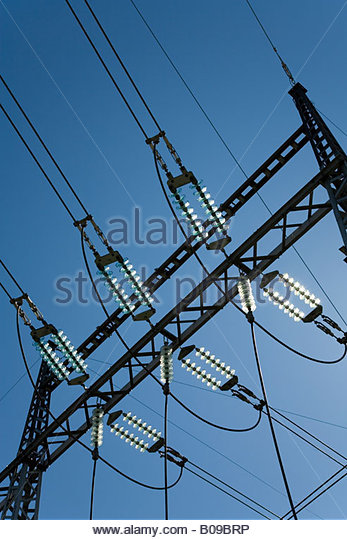isolator: (167, 176, 230, 242), (96, 257, 155, 315), (263, 271, 321, 322), (31, 329, 88, 380), (181, 347, 236, 390), (109, 412, 162, 452), (235, 276, 256, 314), (90, 407, 105, 449), (159, 346, 175, 385)
